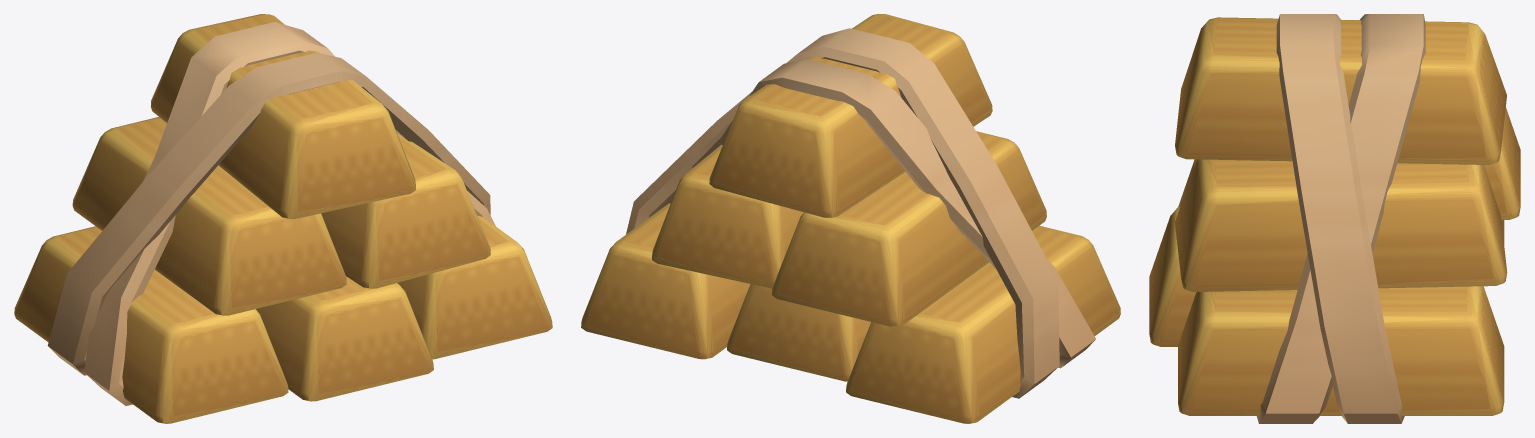
File: gold-bars.glb
3 views of the same model, side by side, from view 1: azimuth 30°, elevation 25°; view 2: azimuth 150°, elevation 25°; view 3: azimuth 270°, elevation 25° (orthographic). The views are drawn at different scales.
Parts seen in each view (by area): view 1: Gold_Bars; view 2: Gold_Bars; view 3: Gold_Bars.
Part boxes in pixels (box(x1,y1,x2,y2)): Gold_Bars: box(14, 14, 552, 423); Gold_Bars: box(581, 14, 1120, 423); Gold_Bars: box(1149, 14, 1520, 423).
Size of the model in its own units: 1.27 by 0.7897 by 0.9106.
1 material, 1 textured.
